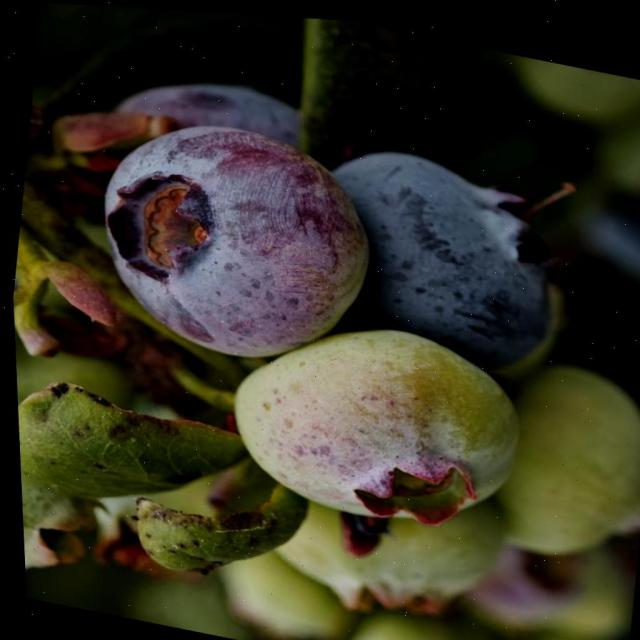RipeBlueBerry: (310, 130, 580, 372)
Semi-RipeBlueBerry: (78, 99, 388, 378)
UnripeBlueBerry: (208, 291, 537, 545), (258, 464, 506, 626), (477, 343, 640, 566)
